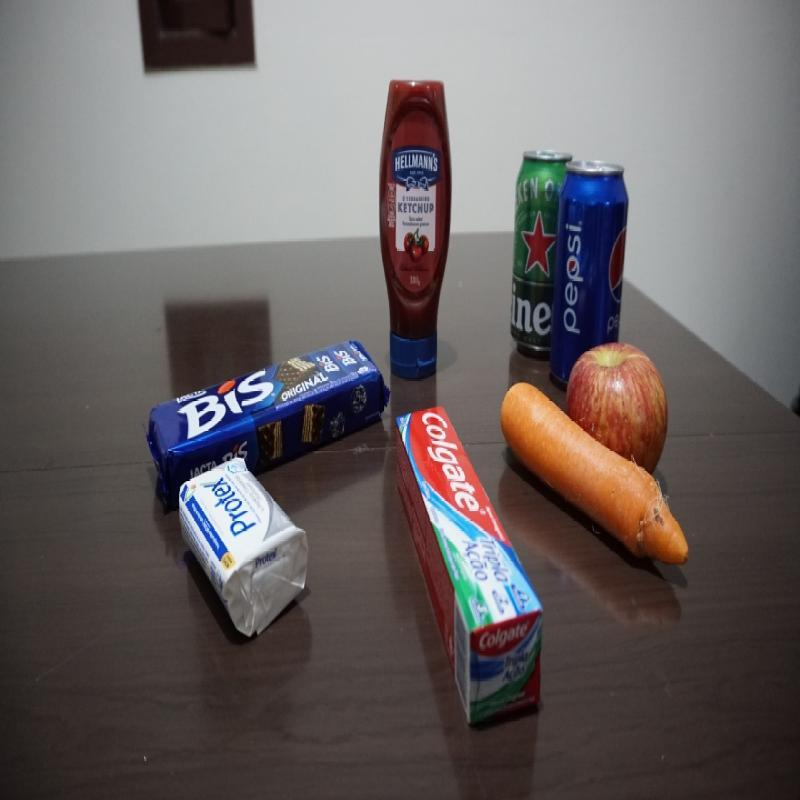Apple: (568, 340, 674, 434)
Beer can: (512, 150, 556, 346)
Carrot: (548, 437, 698, 578)
Ketchup: (383, 78, 454, 389)
Soap: (182, 467, 320, 636)
Soda can: (559, 159, 622, 340)
Toothpaste: (395, 403, 544, 725)
